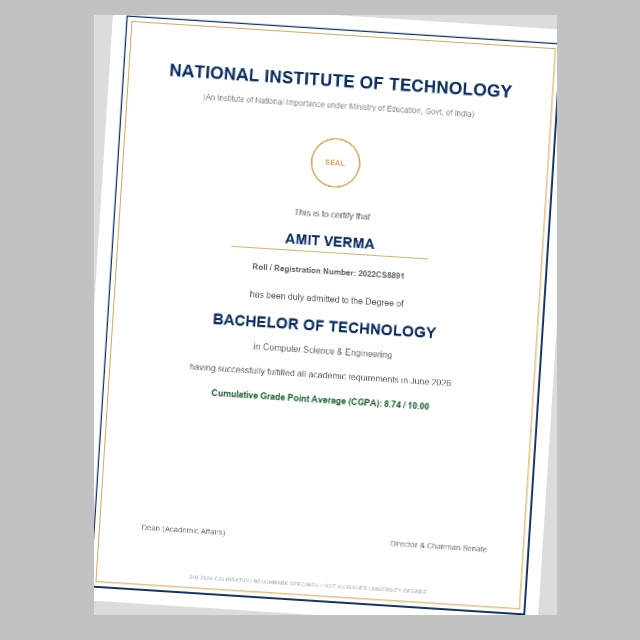marksheet: (94, 15, 557, 615)
